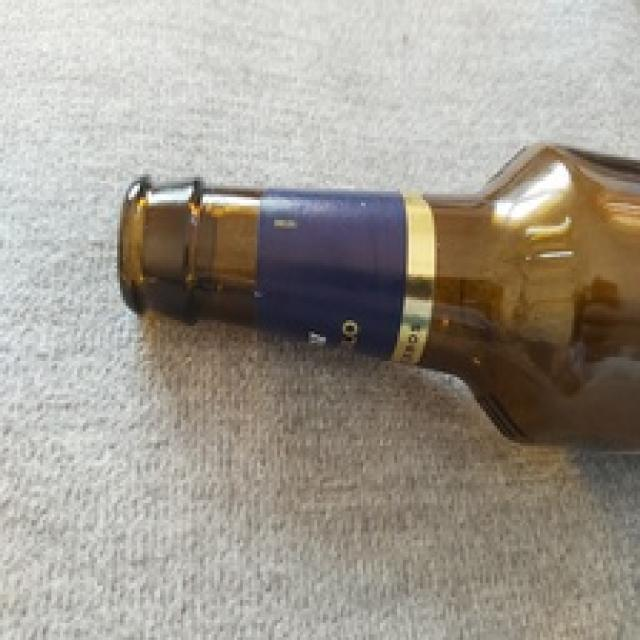Glass: (121, 142, 640, 448)
